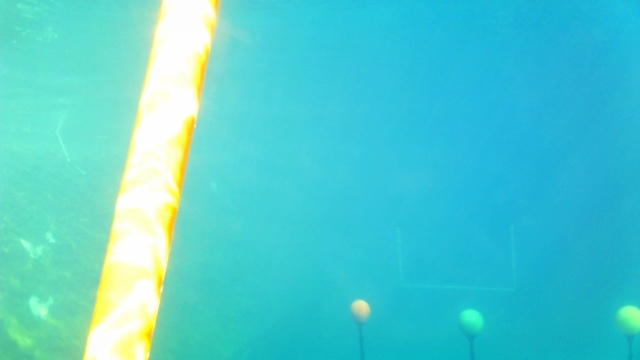buoy_green: (456, 306, 483, 342)
buoy_red: (348, 298, 371, 323)
channel: (395, 225, 519, 294)
